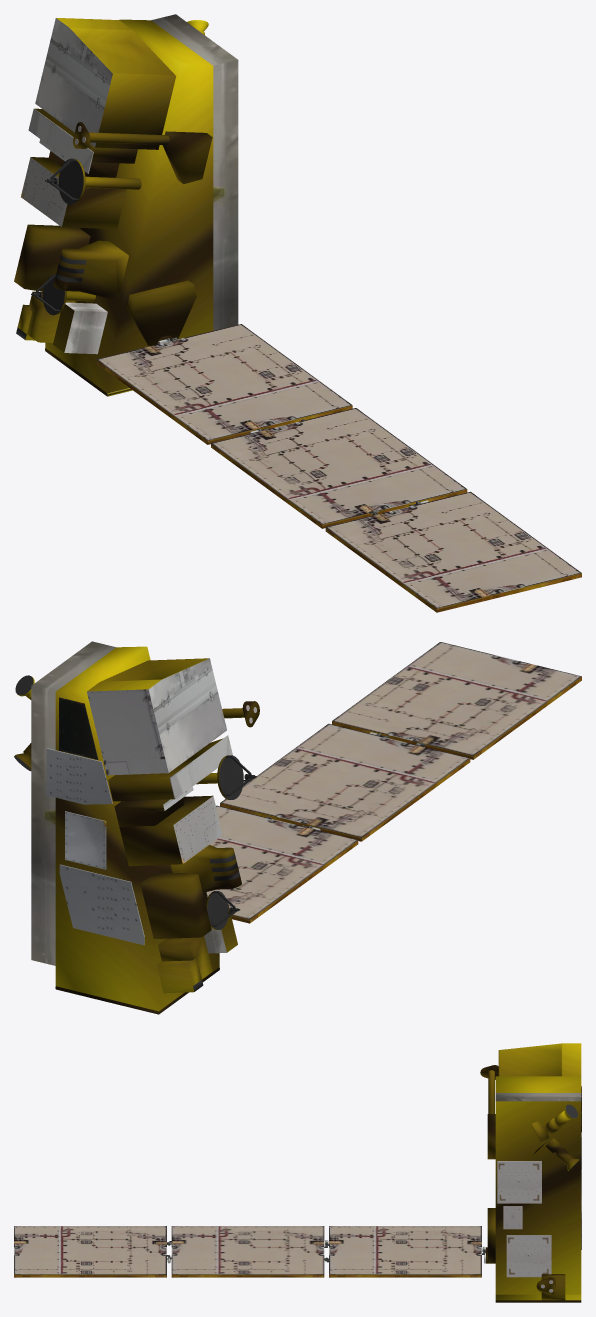
The model's file is suomi.glb.
3 renders of one model, top to bottom at view 1: azimuth 30°, elevation 25°; view 2: azimuth 150°, elevation 25°; view 3: azimuth 270°, elevation 25°, orthographic. The views are drawn at different scales.
Visible parts, largest first — view 1: shiny_panel, foil_gold, tex_02, AO_01; view 2: shiny_panel, foil_gold, tex_02, AO_01, foil_silver; view 3: shiny_panel, foil_gold, tex_02.
Part boxes in pixels (x1,y1,x2,y2): shiny_panel: (74,126,581,612); foil_gold: (14,18,213,396); tex_02: (21,14,238,354); AO_01: (31,158,83,315); shiny_panel: (46,642,581,945); foil_gold: (15,646,259,1014); tex_02: (31,641,232,965); AO_01: (14,675,256,929); foil_silver: (193,854,239,991); shiny_panel: (14,1132,581,1292); foil_gold: (480,1043,581,1302); tex_02: (495,1086,581,1132).
Size of the model in its own units: 2.57 by 4.18 by 8.96.
5 materials, 5 textured.
